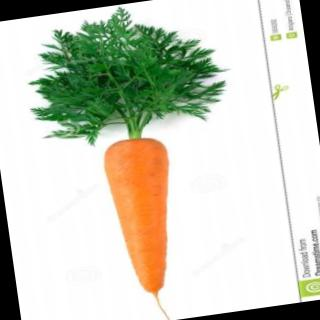Wortel: (102, 134, 188, 299)
